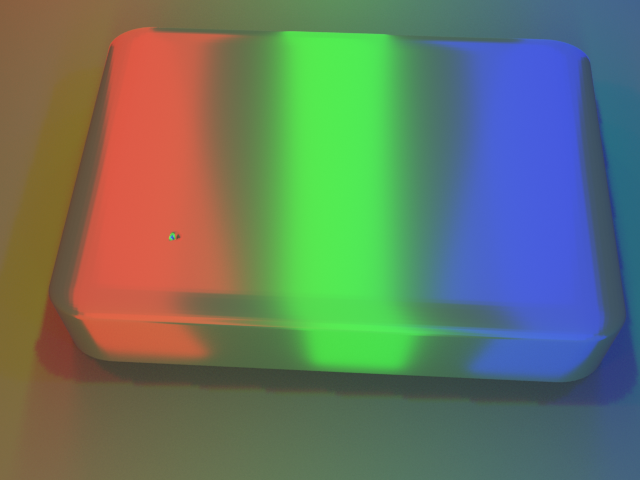dent: (143, 224, 174, 259)
